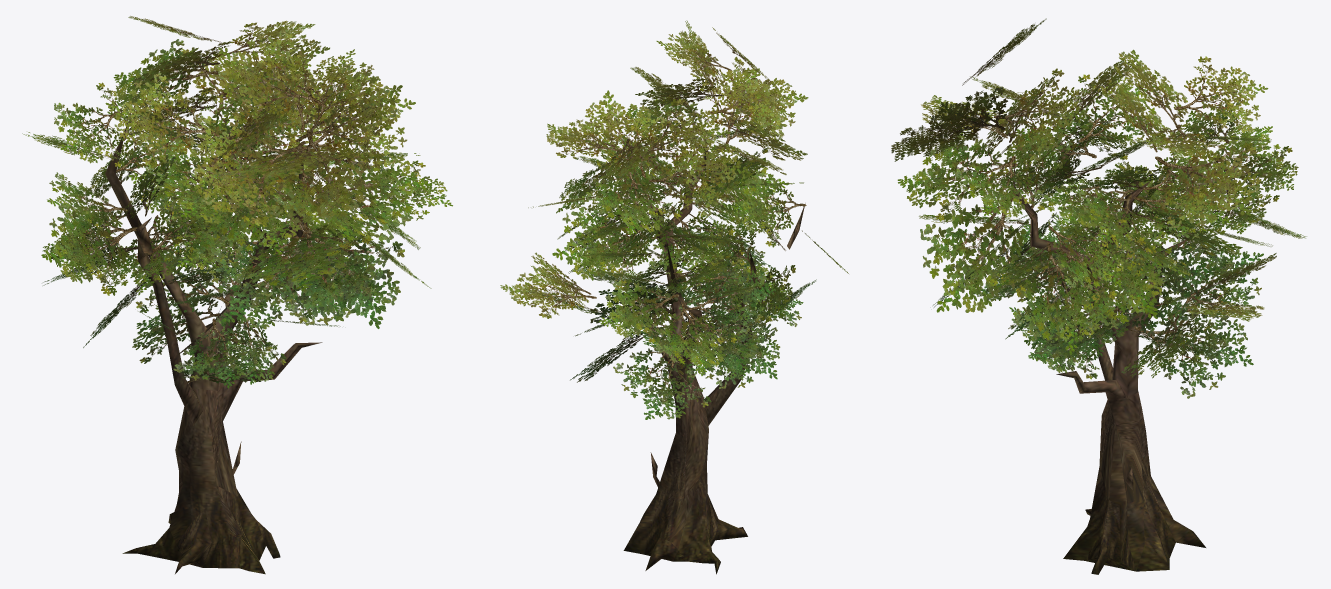
File: d_sd_shu02_zw.FBX
The picture shows the model from 3 angles, left to right: view 1: azimuth 30°, elevation 25°; view 2: azimuth 150°, elevation 25°; view 3: azimuth 270°, elevation 25°; orthographic projection. The views are drawn at different scales.
Parts seen in each view (by area): view 1: d_sd_shu02_zw_B, d_sd_shu02_zw_A; view 2: d_sd_shu02_zw_B, d_sd_shu02_zw_A; view 3: d_sd_shu02_zw_B, d_sd_shu02_zw_A.
Boxes of the visible parts, x1,y1,x2,y2 form: d_sd_shu02_zw_B: [22, 16, 452, 388]; d_sd_shu02_zw_A: [105, 127, 322, 574]; d_sd_shu02_zw_B: [500, 20, 848, 419]; d_sd_shu02_zw_A: [623, 136, 805, 574]; d_sd_shu02_zw_B: [891, 18, 1306, 398]; d_sd_shu02_zw_A: [1013, 136, 1228, 574].
Bounding box in the file's own units: 608 × 883 × 648.
